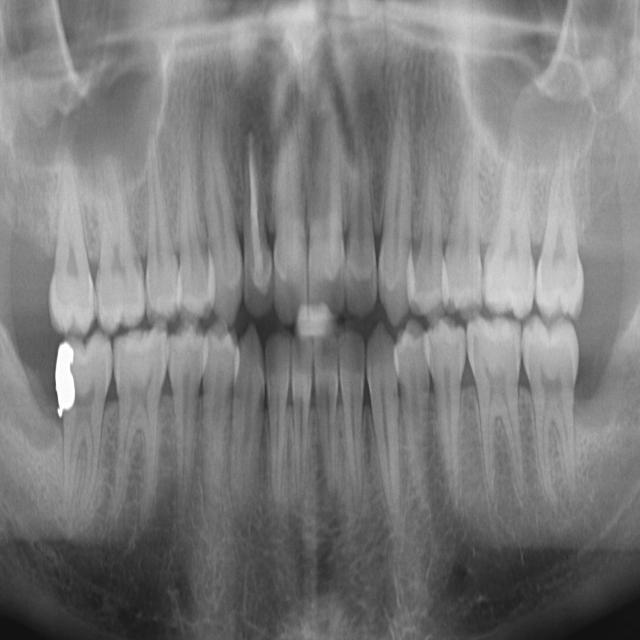infected-teeth: (237, 96, 279, 316)
